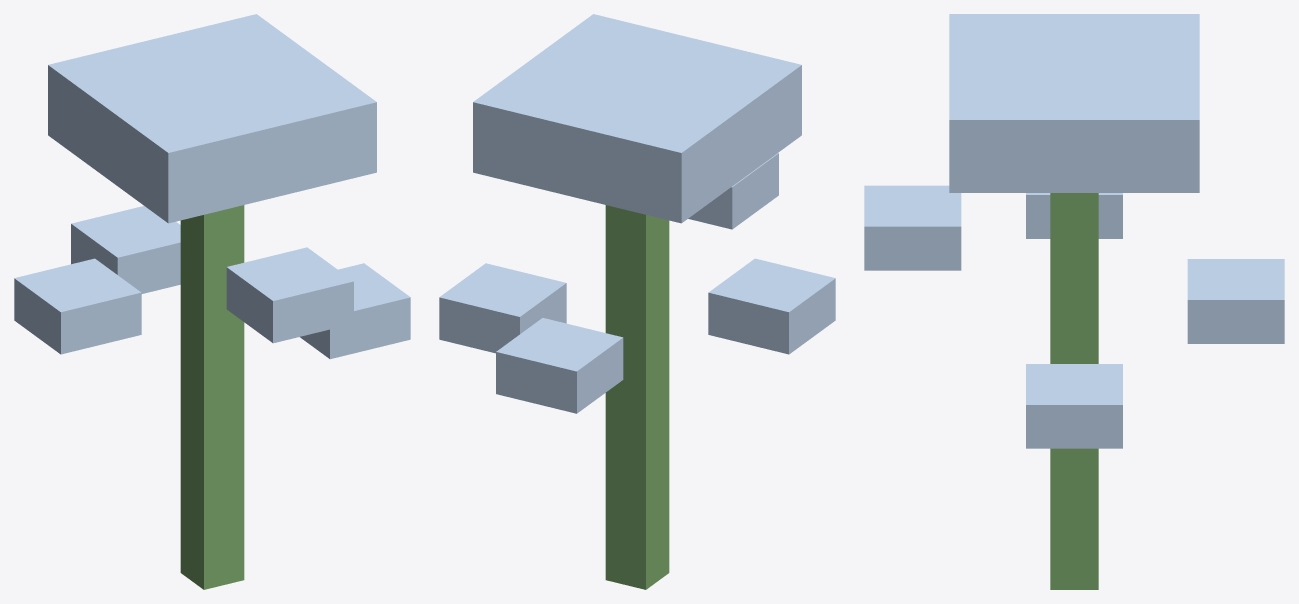
The model's file is Prop_DS_Herb_LatencyLily_S3.glb.
The picture shows the model from 3 angles, left to right: view 1: azimuth 30°, elevation 25°; view 2: azimuth 150°, elevation 25°; view 3: azimuth 270°, elevation 25°; orthographic projection. The views are drawn at different scales.
Parts seen in each view (by area): view 1: Cube.005, Cube, Cube.003, Cube.004, Cube.002, Cube.001; view 2: Cube.005, Cube, Cube.003, Cube.002, Cube.001, Cube.004; view 3: Cube.005, Cube, Cube.004, Cube.002, Cube.001, Cube.003.
Part boxes in pixels (x1,y1,x2,y2): Cube.005: (48, 14, 376, 223); Cube: (180, 205, 244, 589); Cube.003: (14, 258, 141, 354); Cube.004: (226, 247, 353, 343); Cube.002: (71, 206, 180, 293); Cube.001: (300, 263, 410, 359); Cube.005: (473, 14, 801, 223); Cube: (605, 205, 669, 589); Cube.003: (708, 258, 835, 354); Cube.002: (496, 318, 623, 413); Cube.001: (439, 263, 566, 353); Cube.004: (688, 153, 778, 229); Cube.005: (949, 14, 1199, 192); Cube: (1050, 193, 1098, 589); Cube.004: (864, 185, 961, 270); Cube.002: (1187, 259, 1284, 343); Cube.001: (1026, 364, 1122, 448); Cube.003: (1026, 193, 1122, 238).
Bounding box in the file's own units: 0.52 × 0.7 × 0.52.
